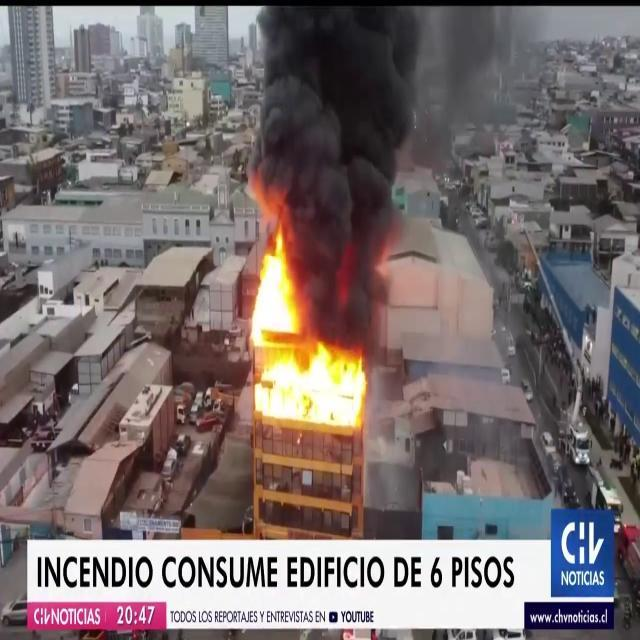Fire: (244, 220, 370, 428)
Smoke: (248, 2, 434, 298)
